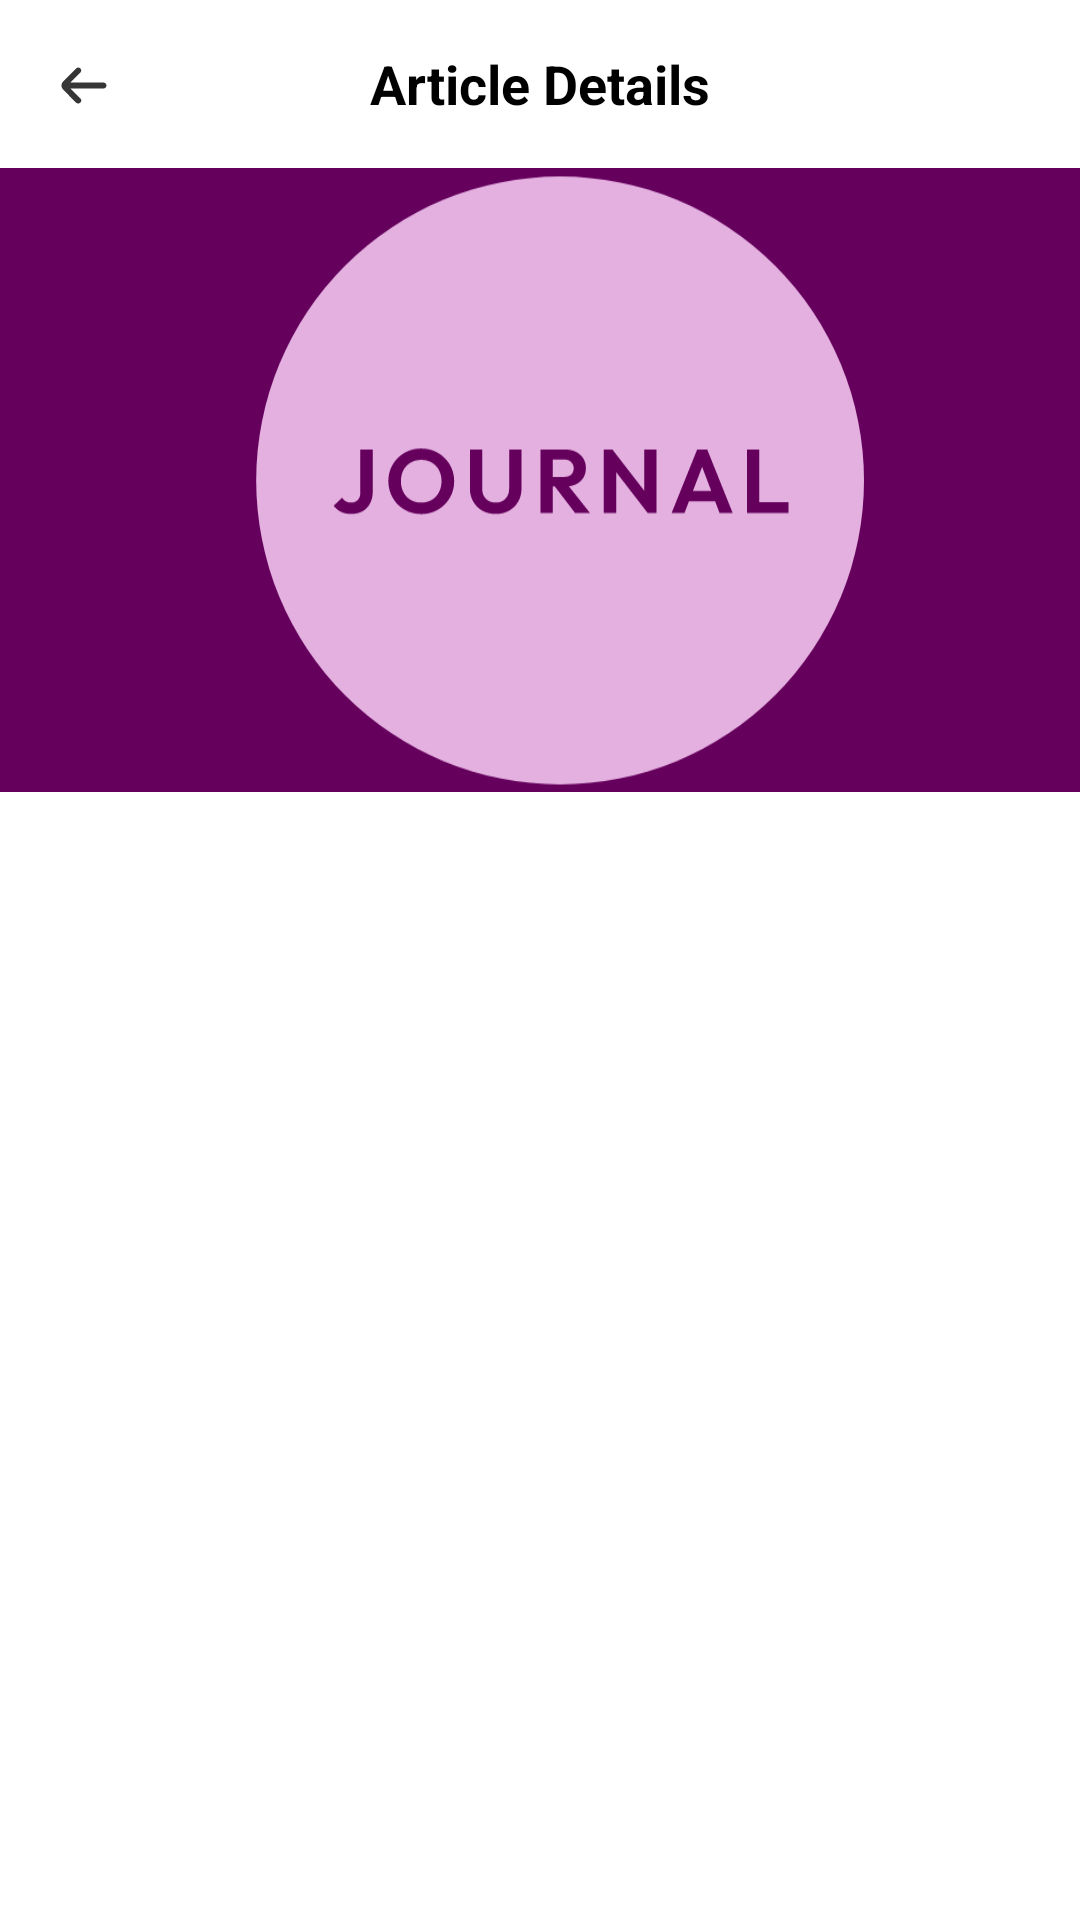

Named icons in this screenshot (1080*1920) and their centers, (x=x, y=y):
back arrow: (x=84, y=85)
